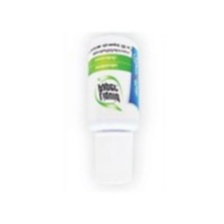correction_fluid: (83, 31, 142, 188)
